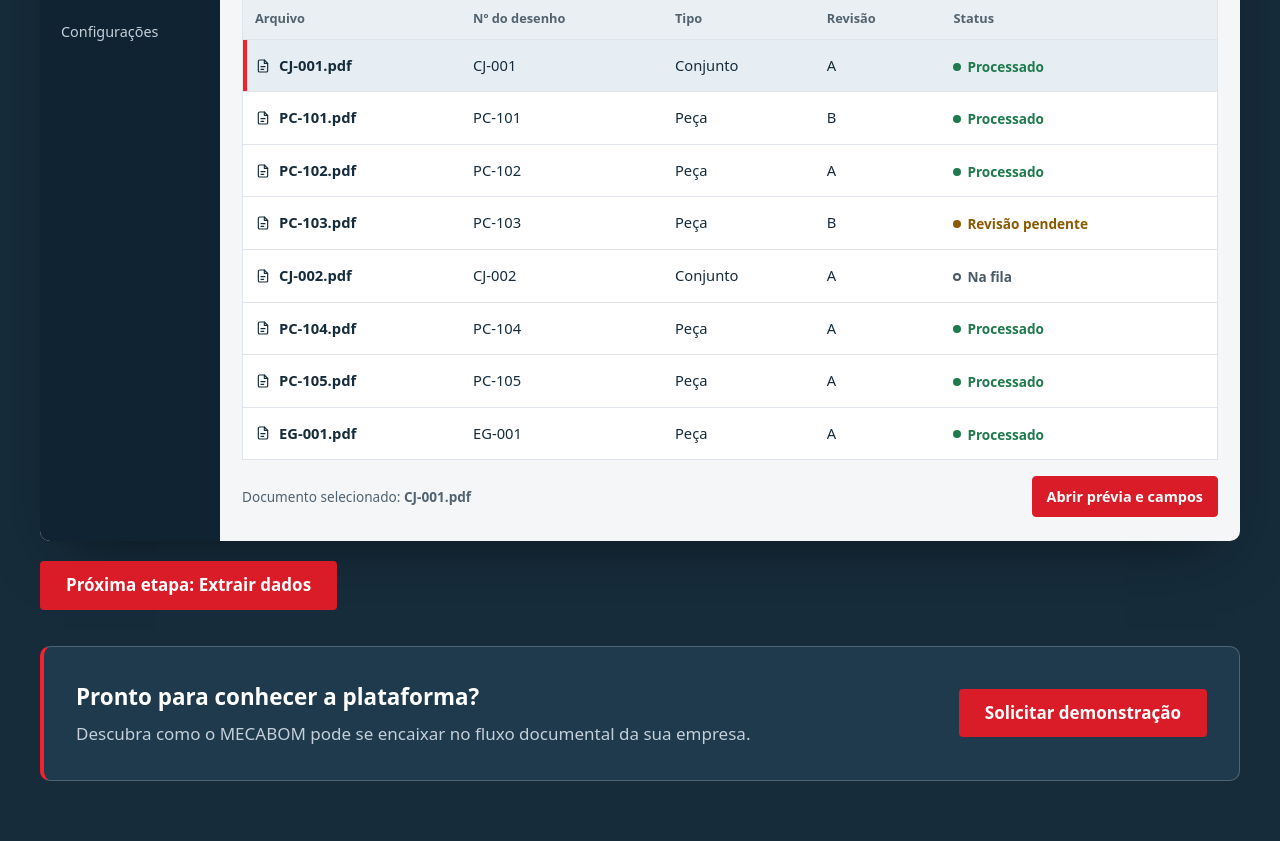
ProductDemo › etapa 2: o EG-001 mostra campos próprios, incluindo os não identificados
This screenshot has width=1280, height=841.
(page scrolled)
Step 1. Click the button "EG-001.pdf" → (306, 433), box [255,418,356,449]
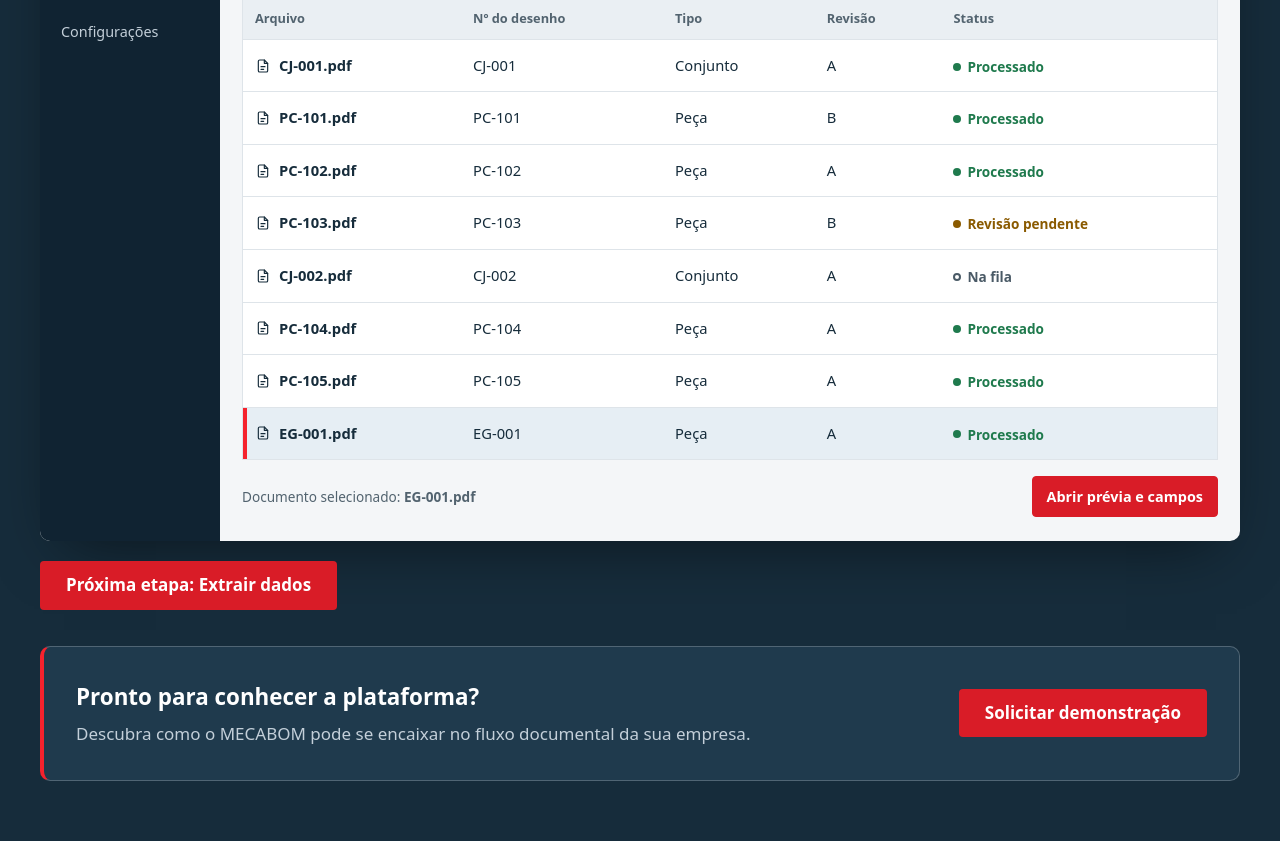
Step 2. Click the button "Abrir prévia e campos" → (1125, 497), box [1032,476,1218,517]
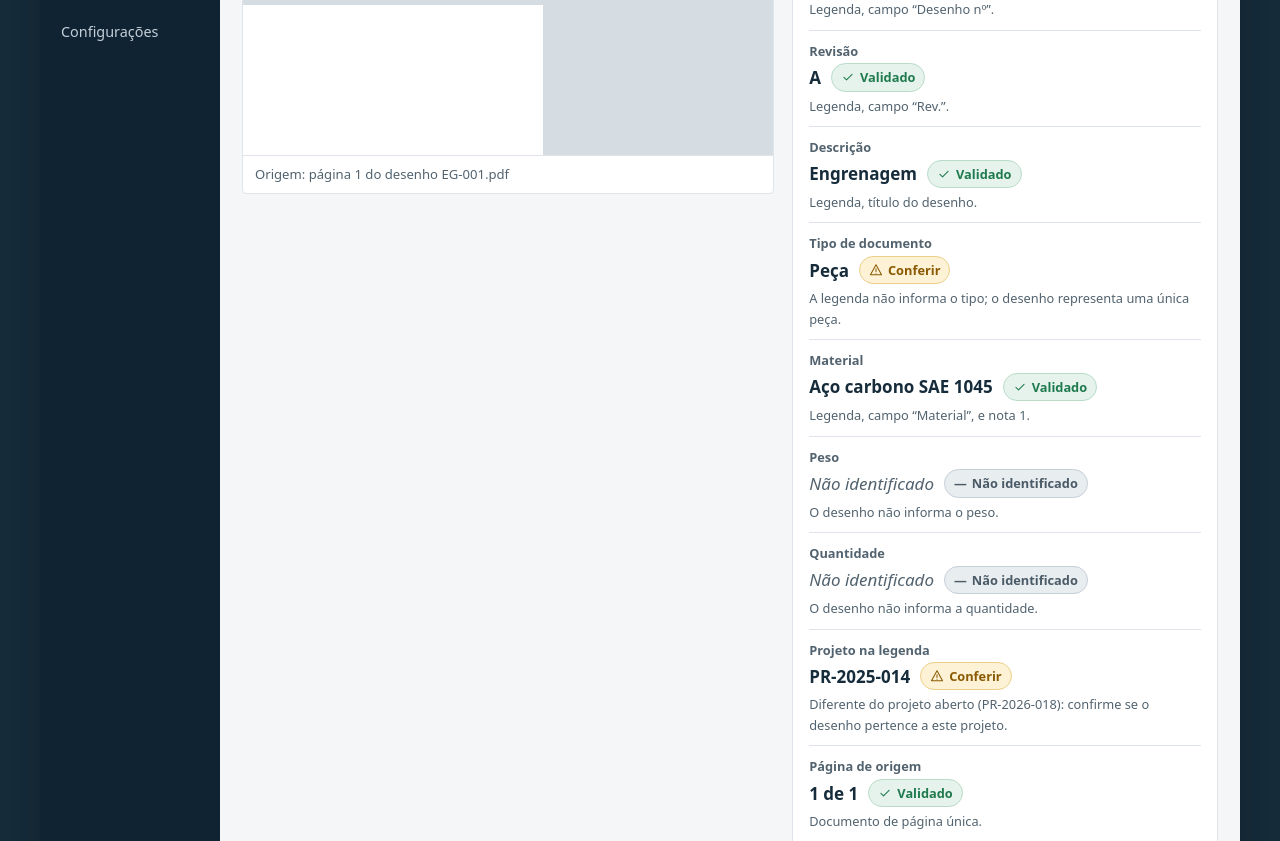
Check: the text "Aço carbono SAE 1045" is shown, box [809,373,993,401]
Check: the text "Não identificado" is shown 2 times, box [944,469,1088,498]; [944,566,1088,594]
Check: the text "Diferente do projeto aberto" is shown, box [809,696,1149,734]
